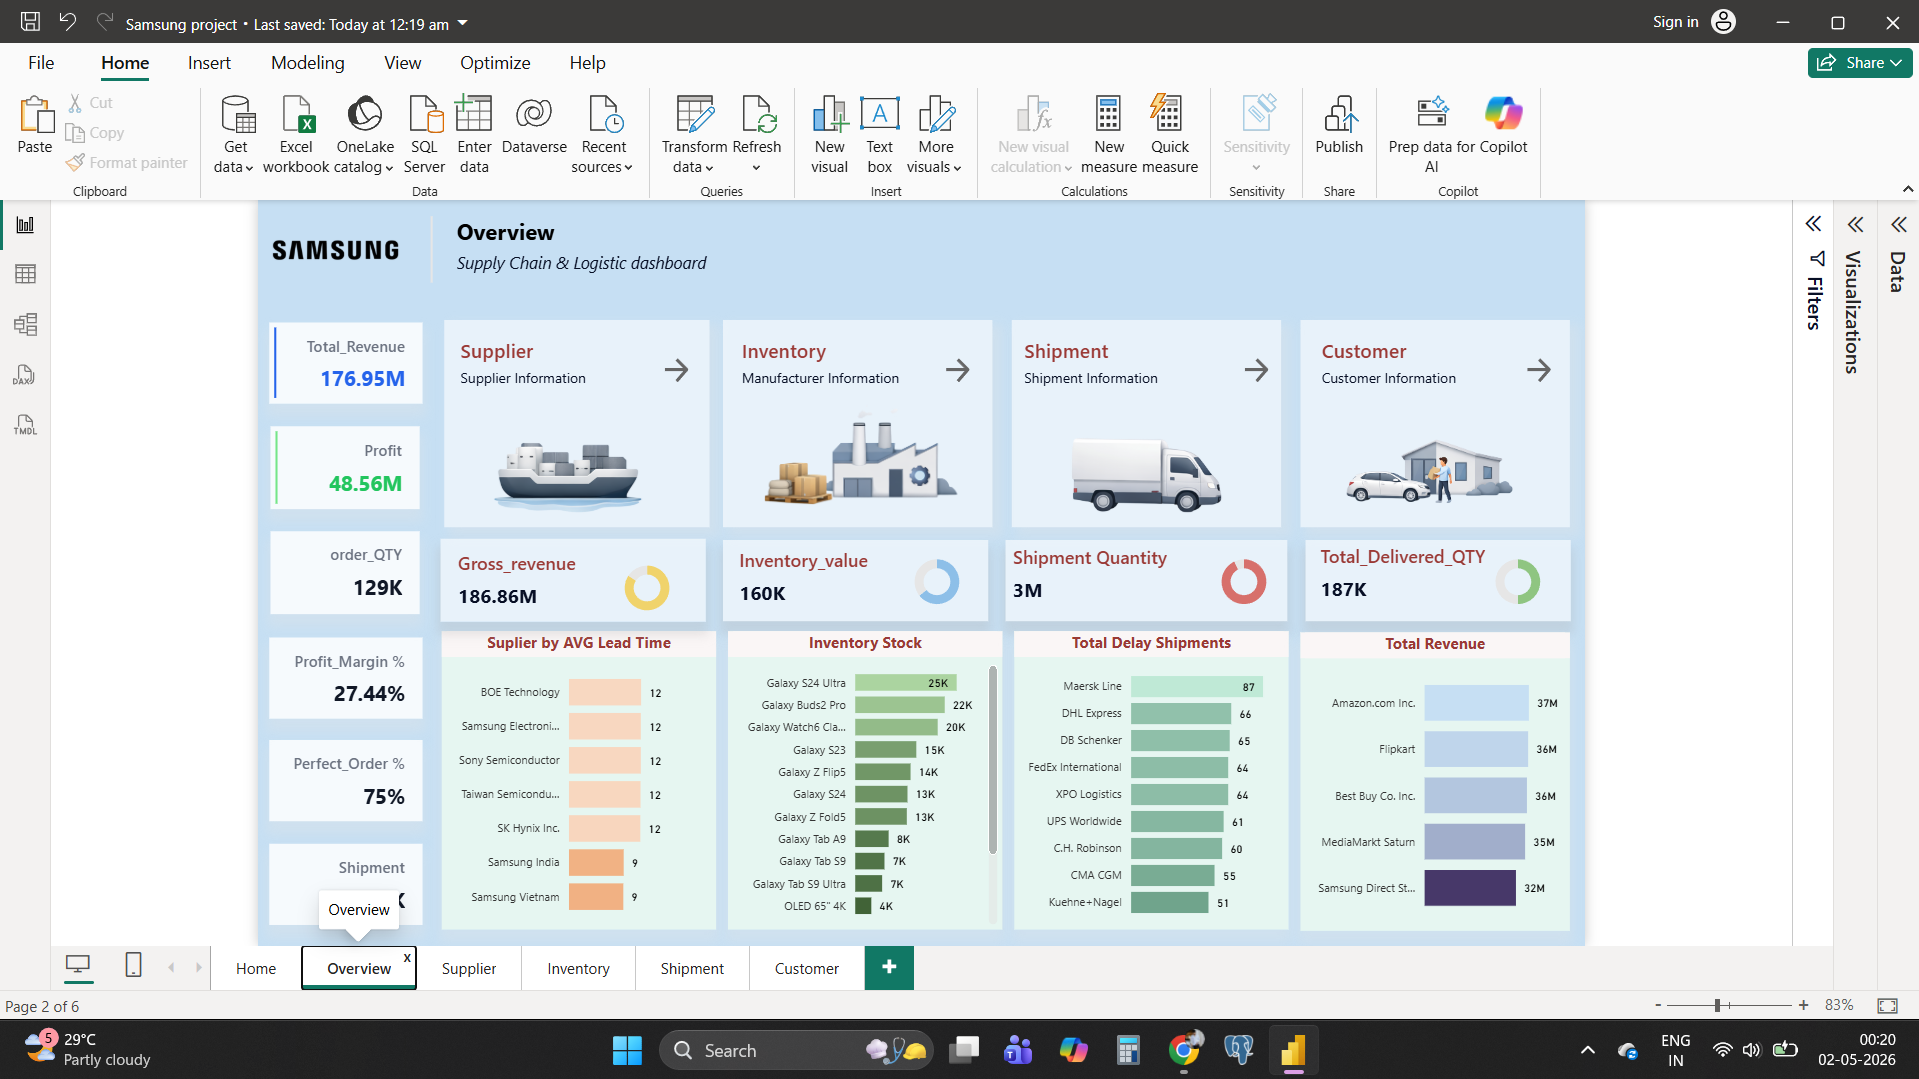

What the dashboard file says about the page in this screenshot:
{"tool":"powerbi","page":{"name":"Overview","canvas":[1280,720],"ordinal":1},"visuals":[{"type":"shape","box":[179.3,116.3,256,200],"z":0},{"type":"shape","box":[1006,115.8,260,200],"z":1000},{"type":"shape","box":[727.3,115.8,260,200],"z":2000},{"type":"shape","box":[448.7,115.8,260,200],"z":3000},{"type":"image","box":[207.3,179.2,176,160],"z":4000},{"type":"image","box":[463.3,163.2,224,160],"z":5000},{"type":"image","box":[1039.3,195.2,192,128],"z":6000},{"type":"image","box":[767.3,195.2,176,128],"z":7000},{"type":"actionButton","box":[387.3,148.3,48,32],"z":8000},{"type":"actionButton","box":[1219.3,148.3,48,32],"z":9000},{"type":"actionButton","box":[947.3,148.3,32,32],"z":10000},{"type":"actionButton","box":[659.3,148.3,48,32],"z":11000},{"type":"shape","title":"Supplier ","box":[195.3,132.3,144,64],"z":12000},{"type":"shape","title":"Customer","box":[1027.3,132.3,144,64],"z":13000},{"type":"shape","title":"Shipment","box":[739.3,132.3,160,64],"z":14000},{"type":"shape","title":"Inventory","box":[467.3,132.3,160,64],"z":15000},{"type":"shape","title":"Overview","box":[192,16,256,64],"z":16000},{"type":"shape","box":[144,16,48,64],"z":17000},{"type":"image","box":[0,0,144,96],"z":18000},{"type":"cardVisual","fields":{"Data":["Measures_table.Perfect_Order %"]},"box":[10.5,521.6,148,78],"z":19000},{"type":"cardVisual","fields":{"Data":["Measures_table.Profit_Margin %"]},"box":[10.5,421.9,148,78],"z":20000},{"type":"cardVisual","fields":{"Data":["Measures_table.Profit"]},"box":[12.5,218.3,144,80],"z":21000},{"type":"cardVisual","fields":{"Data":["Measures_table.Total_Revenue"]},"box":[10.5,118.5,148,78],"z":22000},{"type":"cardVisual","fields":{"Data":["Measures_table.Total_shipment"]},"box":[10.5,621.4,148,78],"z":23000},{"type":"shape","box":[176,326.5,256,80],"z":23500,"group":"g1"},{"type":"cardVisual","fields":{"Data":["Sum(fact_sales.gross_revenue)"]},"box":[176,326.5,160,80],"z":24000,"group":"g1"},{"type":"shape","box":[1010.9,328.5,256,78],"z":24000},{"type":"shape","box":[721.9,328.5,272,78],"z":25000},{"type":"shape","box":[449,328.5,256,78],"z":26000},{"type":"cardVisual","fields":{"Data":["Measures_table.order_QTY"]},"box":[12.5,320.1,144,80],"z":27000},{"type":"cardVisual","fields":{"Data":["Measures_table.Inventory_value"]},"box":[447,323.3,160,80],"z":28000},{"type":"cardVisual","fields":{"Data":["Measures_table.Total_shipment_QTY"]},"box":[711.3,320.7,208,80],"z":29000},{"type":"cardVisual","fields":{"Data":["Measures_table.Total_Delivered_QTY"]},"box":[1008,320,208,80],"z":30000},{"type":"clusteredBarChart","title":"Suplier by AVG Lead Time","fields":{"Y":["Measures_table.Avg_Lead_time"],"Category":["dim_supplier.supplier_name"]},"box":[177.2,416.7,265,288],"z":31000},{"type":"clusteredBarChart","title":"Inventory Stock ","fields":{"Y":["Measures_table.Inventory_value"],"Category":["dim_product.product_name"]},"box":[453.5,416.7,265,288],"z":32000},{"type":"clusteredBarChart","title":"Total Delay Shipments ","fields":{"Y":["Measures_table.Total_Delay"],"Category":["fact_shipment.carrier"]},"box":[729.9,416.7,265,288],"z":33000},{"type":"clusteredBarChart","title":"Total Revenue ","fields":{"Y":["Measures_table.Total_Revenue"],"Category":["dim_customer.customer_name"]},"box":[1006.2,417.2,260,288],"z":34000},{"type":"donutChart","fields":{"Y":["Measures_table.Inventory_value","Measures_table.Safety Stock"]},"box":[576,336,160,64],"z":35000},{"type":"donutChart","fields":{"Y":["Measures_table.Total_shipment","Measures_table.Total_Delay"]},"box":[864,336,176,64],"z":36000},{"type":"donutChart","fields":{"Y":["Measures_table.Total_Delivered_QTY","Measures_table.Total_QTY_Delay"]},"box":[1152,336,128,64],"z":37000},{"type":"donutChart","fields":{"Y":["Measures_table.order_QTY","Measures_table.Defect rate"]},"box":[320,342.5,112,64],"z":37000,"group":"g1"},{"type":"group","id":"g1","title":"Group 1","box":[176,326.5,256,80],"z":38000}]}

Visuals, with their boxes on the page's 1280x720 design canvas (x1, y1, x2, y2). These are canvas units, not pixel positions in the 1919x1079 screenshot, which may show the page scaled, cropped or inside an application window:
shape: [179,116,435,316]
shape: [1006,116,1266,316]
shape: [727,116,987,316]
shape: [449,116,709,316]
image: [207,179,383,339]
image: [463,163,687,323]
image: [1039,195,1231,323]
image: [767,195,943,323]
actionButton: [387,148,435,180]
actionButton: [1219,148,1267,180]
actionButton: [947,148,979,180]
actionButton: [659,148,707,180]
"Supplier " shape: [195,132,339,196]
"Customer" shape: [1027,132,1171,196]
"Shipment" shape: [739,132,899,196]
"Inventory" shape: [467,132,627,196]
"Overview" shape: [192,16,448,80]
shape: [144,16,192,80]
image: [0,0,144,96]
cardVisual - Measures_table.Perfect_Order %: [10,522,158,600]
cardVisual - Measures_table.Profit_Margin %: [10,422,158,500]
cardVisual - Measures_table.Profit: [12,218,156,298]
cardVisual - Measures_table.Total_Revenue: [10,118,158,196]
cardVisual - Measures_table.Total_shipment: [10,621,158,699]
shape: [176,326,432,406]
cardVisual - Sum(fact_sales.gross_revenue): [176,326,336,406]
shape: [1011,328,1267,406]
shape: [722,328,994,406]
shape: [449,328,705,406]
cardVisual - Measures_table.order_QTY: [12,320,156,400]
cardVisual - Measures_table.Inventory_value: [447,323,607,403]
cardVisual - Measures_table.Total_shipment_QTY: [711,321,919,401]
cardVisual - Measures_table.Total_Delivered_QTY: [1008,320,1216,400]
"Suplier by AVG Lead Time" clusteredBarChart: [177,417,442,705]
"Inventory Stock " clusteredBarChart: [454,417,718,705]
"Total Delay Shipments " clusteredBarChart: [730,417,995,705]
"Total Revenue " clusteredBarChart: [1006,417,1266,705]
donutChart - Measures_table.Inventory_value x Measures_table.Safety Stock: [576,336,736,400]
donutChart - Measures_table.Total_shipment x Measures_table.Total_Delay: [864,336,1040,400]
donutChart - Measures_table.Total_Delivered_QTY x Measures_table.Total_QTY_Delay: [1152,336,1280,400]
donutChart - Measures_table.order_QTY x Measures_table.Defect rate: [320,342,432,406]
"Group 1" group: [176,326,432,406]
